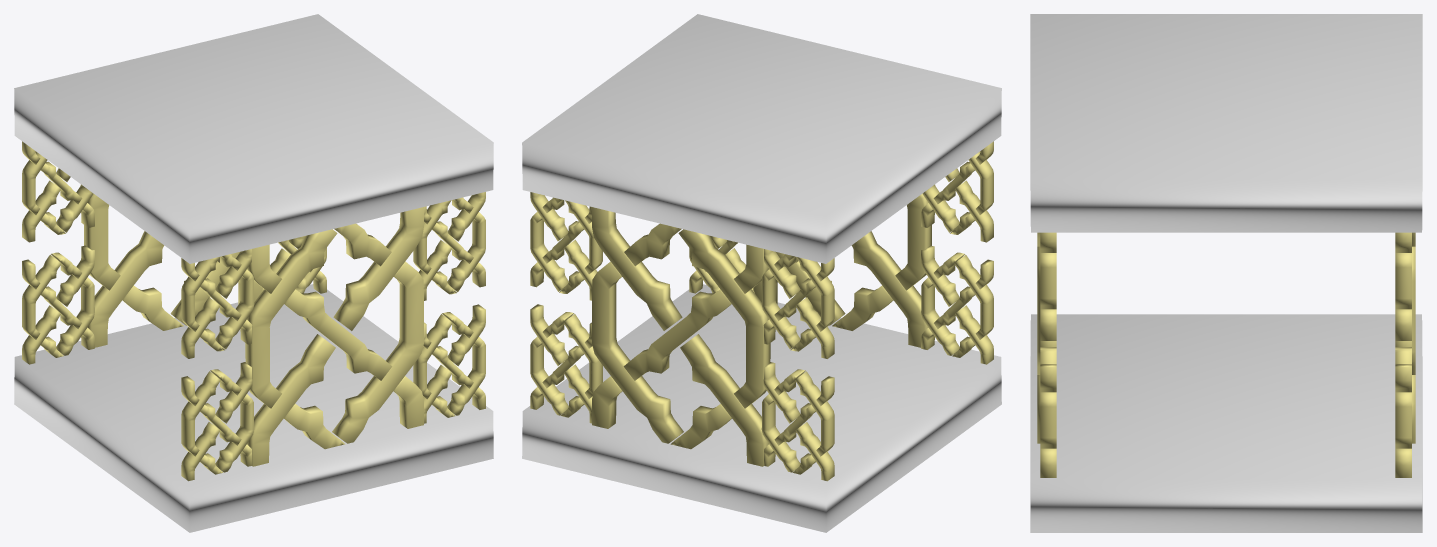
3 renders of one model, left to right at view 1: azimuth 30°, elevation 25°; view 2: azimuth 150°, elevation 25°; view 3: azimuth 270°, elevation 25°, orthographic. The views are drawn at different scales.
Parts seen in each view (by area): view 1: cube1; view 2: cube1; view 3: cube1.
Part boxes in pixels (x1=…): cube1: x1=14, y1=14, x2=493, y2=532; cube1: x1=522, y1=14, x2=1001, y2=532; cube1: x1=1030, y1=14, x2=1422, y2=532.
Bounding box in the file's own units: 201 × 200 × 201.
